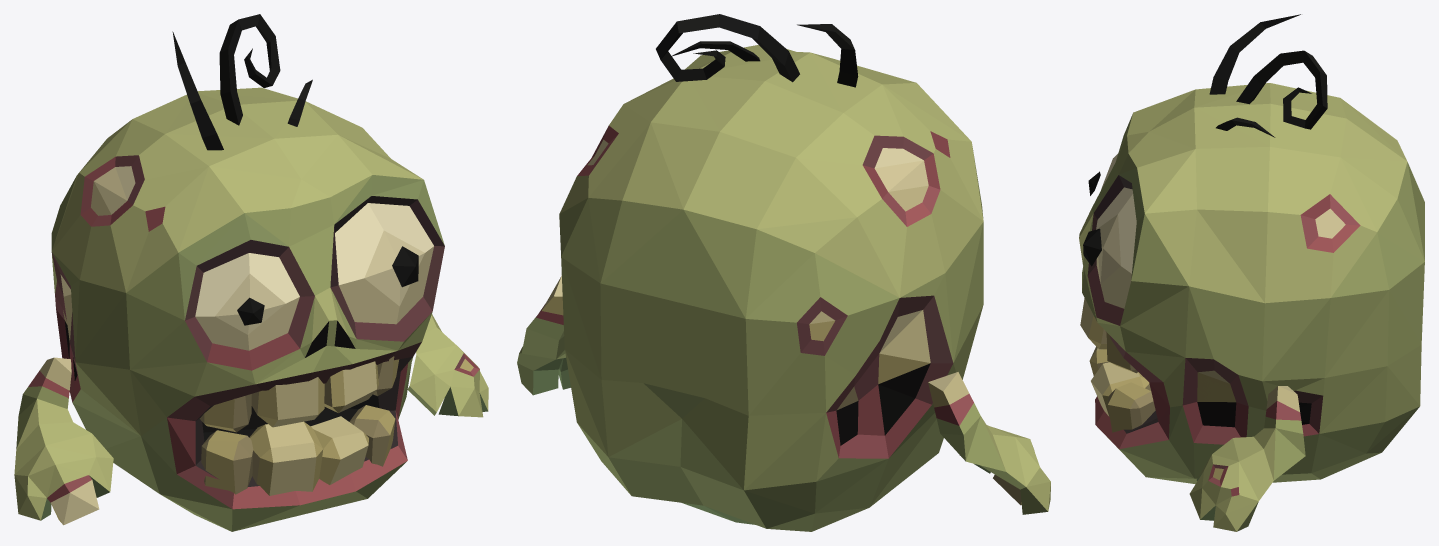
Rendered from micro_zombie_brian.obj.
The picture shows the model from 3 angles, left to right: view 1: azimuth 30°, elevation 25°; view 2: azimuth 150°, elevation 25°; view 3: azimuth 270°, elevation 25°; orthographic projection. The views are drawn at different scales.
Visible parts, largest first — view 1: brian_mesh; view 2: brian_mesh; view 3: brian_mesh.
Boxes of the visible parts, box(x1,y1,x2,y2) form: brian_mesh: box(14, 14, 488, 531); brian_mesh: box(517, 14, 1050, 531); brian_mesh: box(1079, 14, 1424, 531).
Size of the model in its own units: 153 by 142 by 104.
